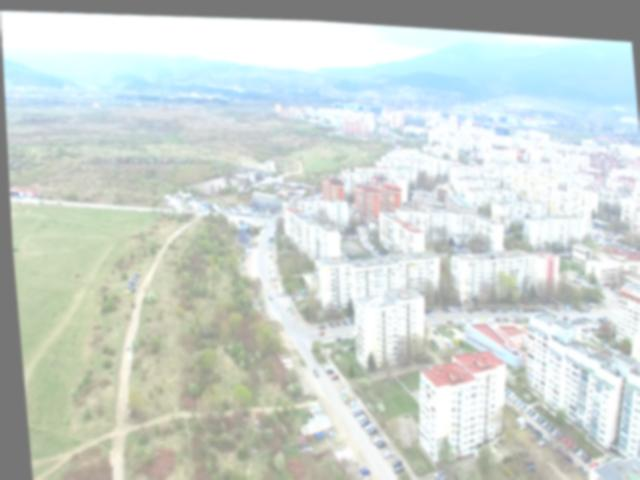plane: (361, 290, 381, 302)
